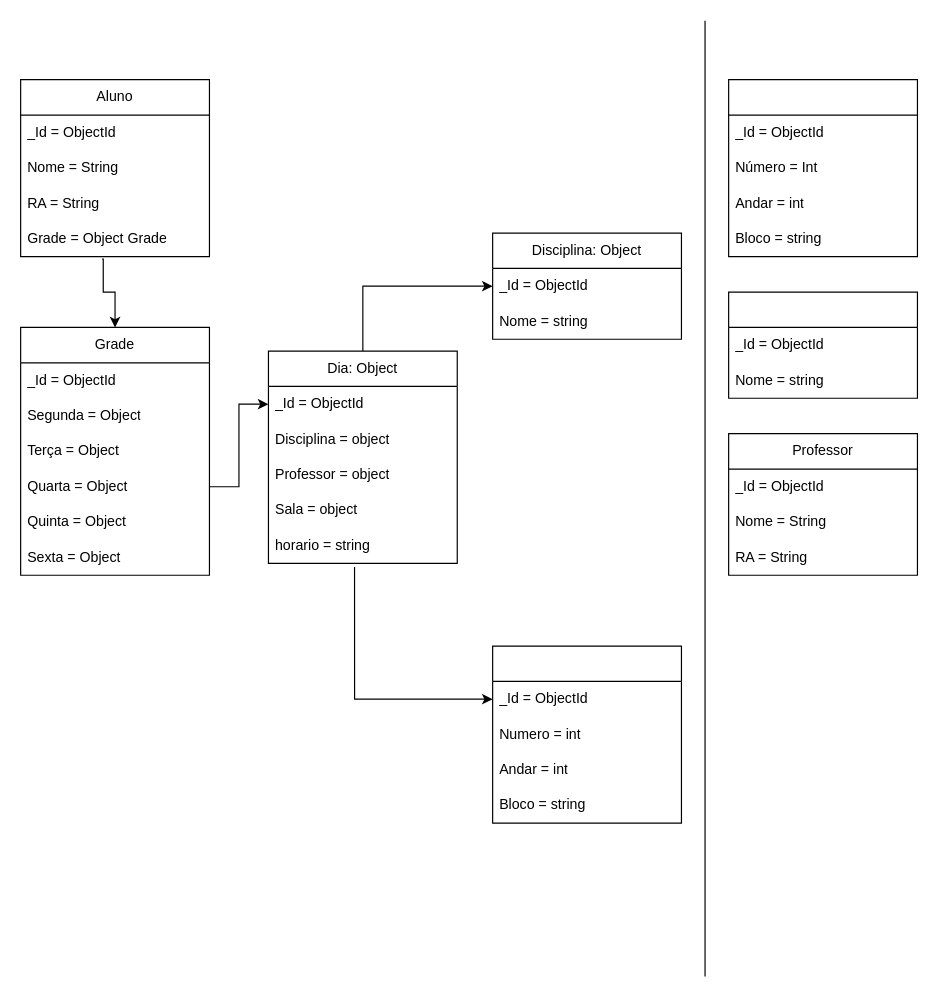
Some shapes in this 938 by 998 pixel diagram are drawn without their labels. The shapes that lost their labels are listed below. From the top down, each one's box as (x1, y1, x2, y2) in pixels, then its label:
(727, 78, 917, 257): Salas de Aula
(727, 291, 917, 398): Disciplinas
(491, 645, 681, 823): Sala: Object
